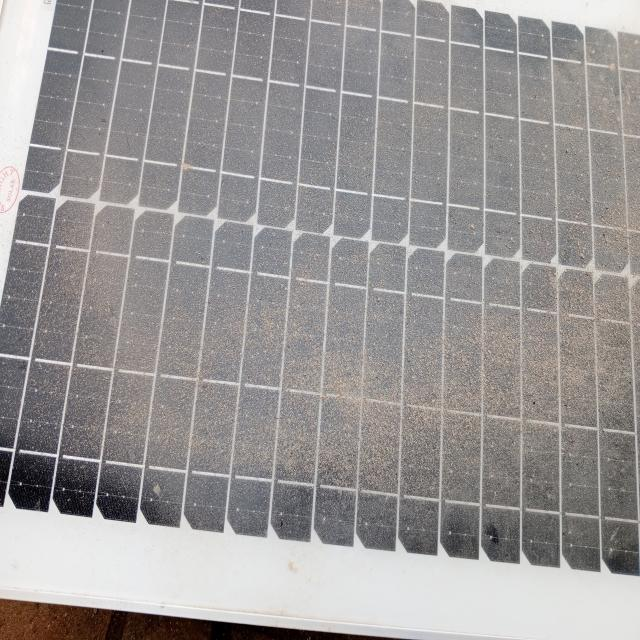Anomaly Solar Panel: (31, 1, 640, 586)
Surface Contaminant: (50, 0, 636, 579)
